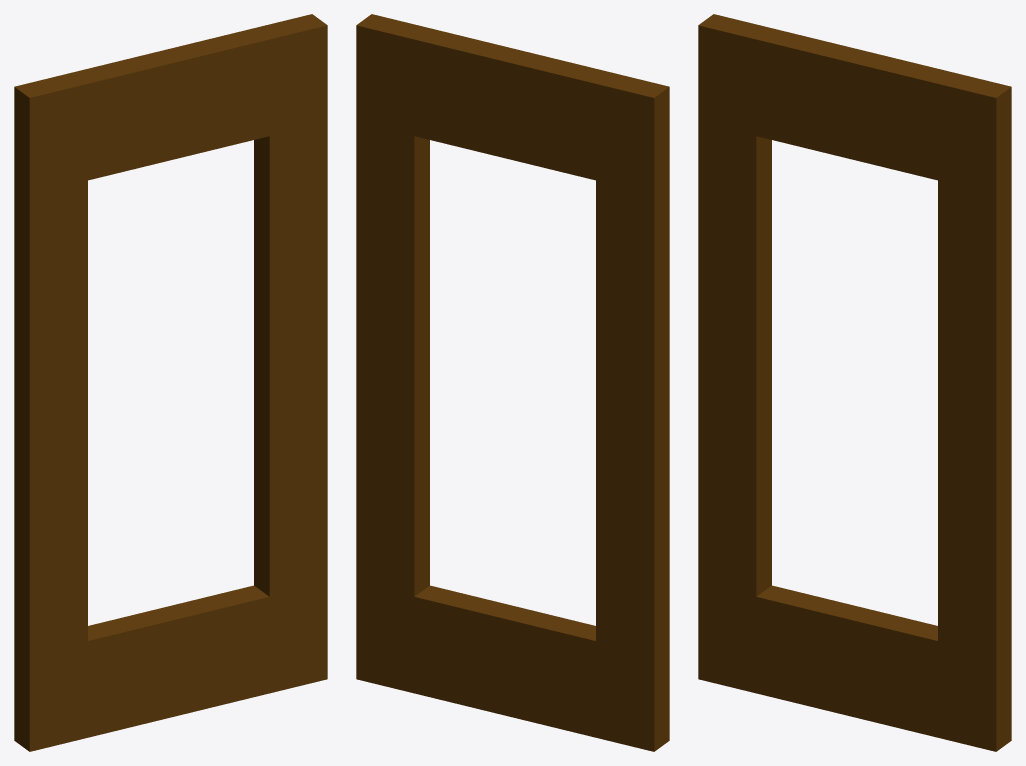
Rendered from Door_C.obj.
The picture shows the model from 3 angles, left to right: view 1: azimuth 30°, elevation 25°; view 2: azimuth 150°, elevation 25°; view 3: azimuth 330°, elevation 25°; orthographic projection.
Parts seen in each view (by area): view 1: Door_C; view 2: Door_C; view 3: Door_C.
Part boxes in pixels (<box>): Door_C: <box>14,14,327,751</box>; Door_C: <box>356,14,669,751</box>; Door_C: <box>698,14,1011,751</box>.
Size of the model in its own units: 0.9657 by 2.02 by 0.0871.
